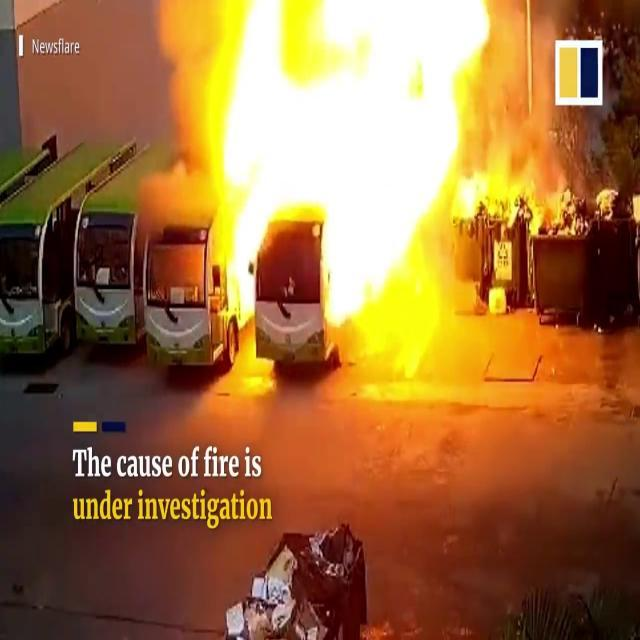Fire: (171, 0, 502, 363)
